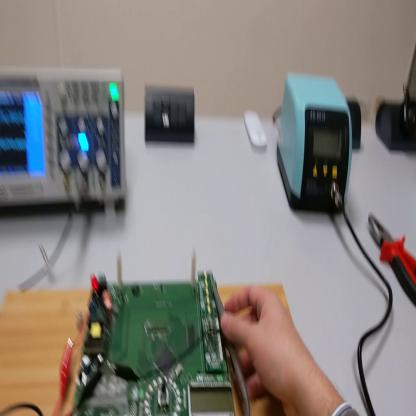hand: (218, 280, 307, 415)
low voltage board: (72, 249, 237, 415)
oscilloscope: (2, 65, 129, 227)
oscilloscope probe tip: (212, 270, 252, 415)
pliers: (369, 211, 416, 306)
socket: (377, 100, 416, 153), (347, 98, 362, 152)
welder station: (279, 76, 353, 217)
working area: (3, 275, 295, 414)
